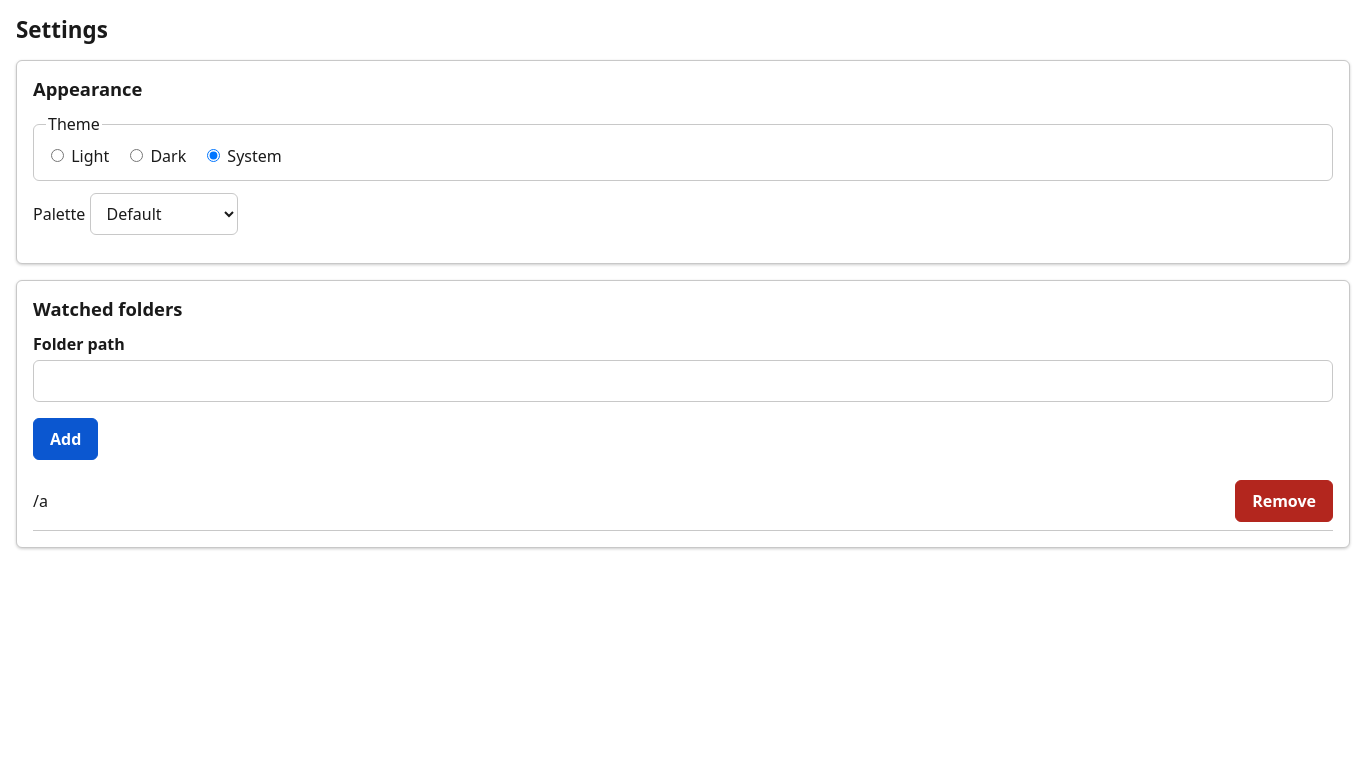
shows 422 reason inline and keeps list
Expected: the text "/a" is shown, [33,489,48,513]
Type "rel" into the field labelled "Folder path".
click(683, 381); type("rel")  # box [33,360,1333,402]
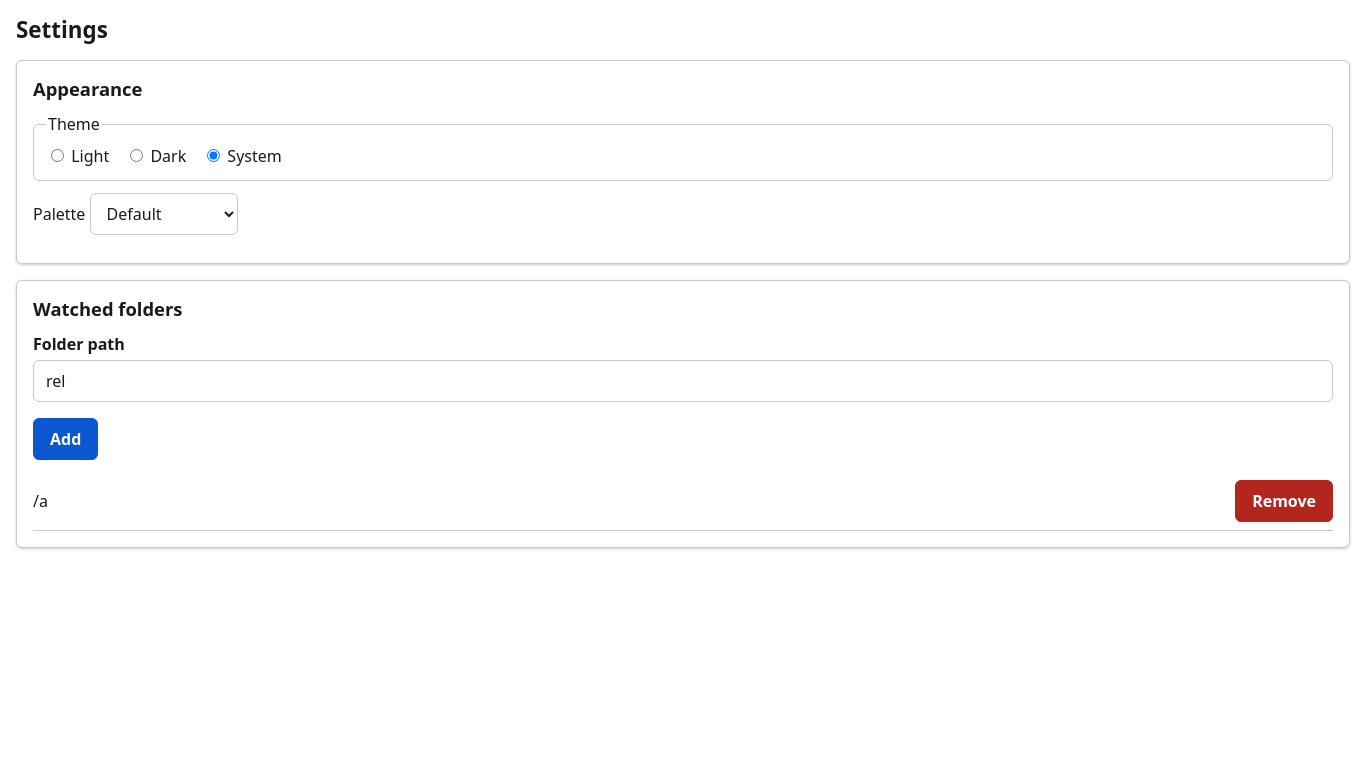
Click the button "Add".
click(66, 439)  # box [33,418,98,460]
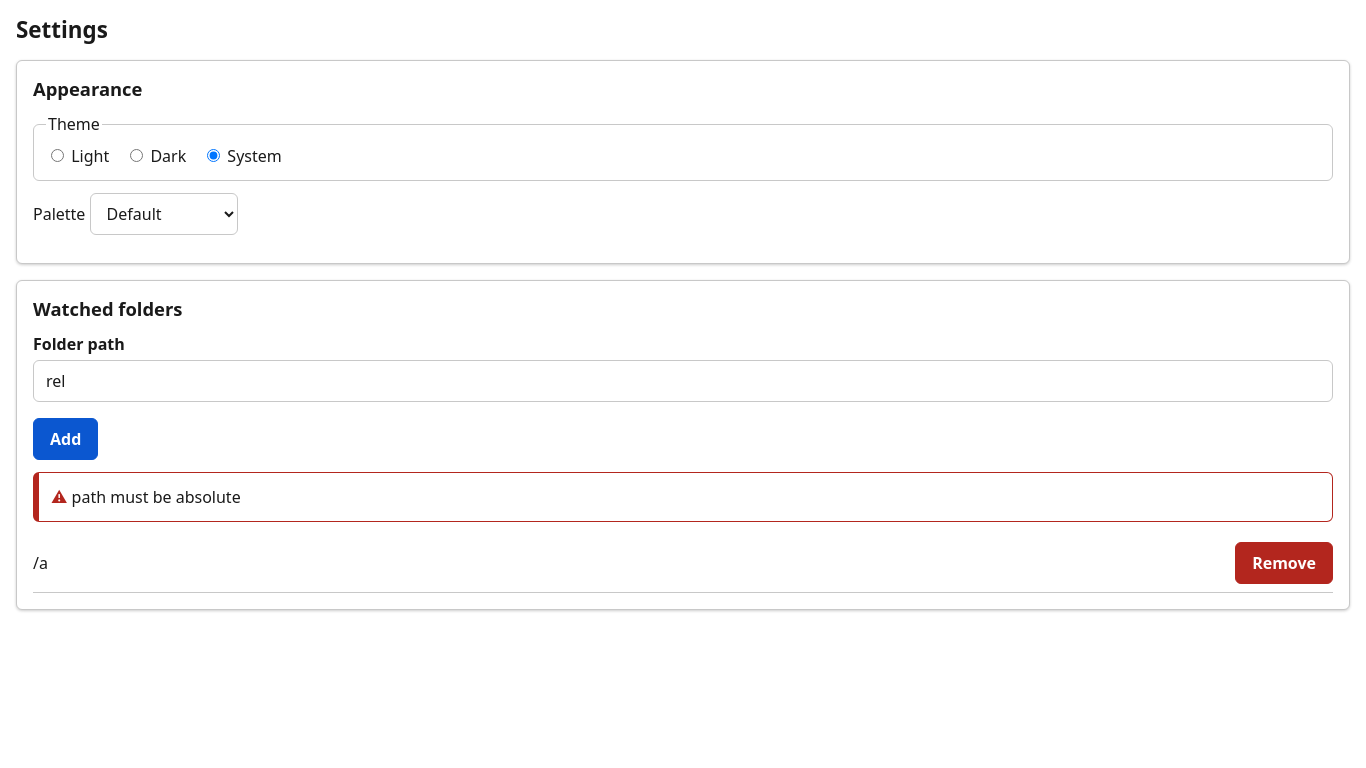
Expected: the number of list items is 1, [33,534,1333,593]
Now the message reads "path must be absolute", box [72,486,241,508]
